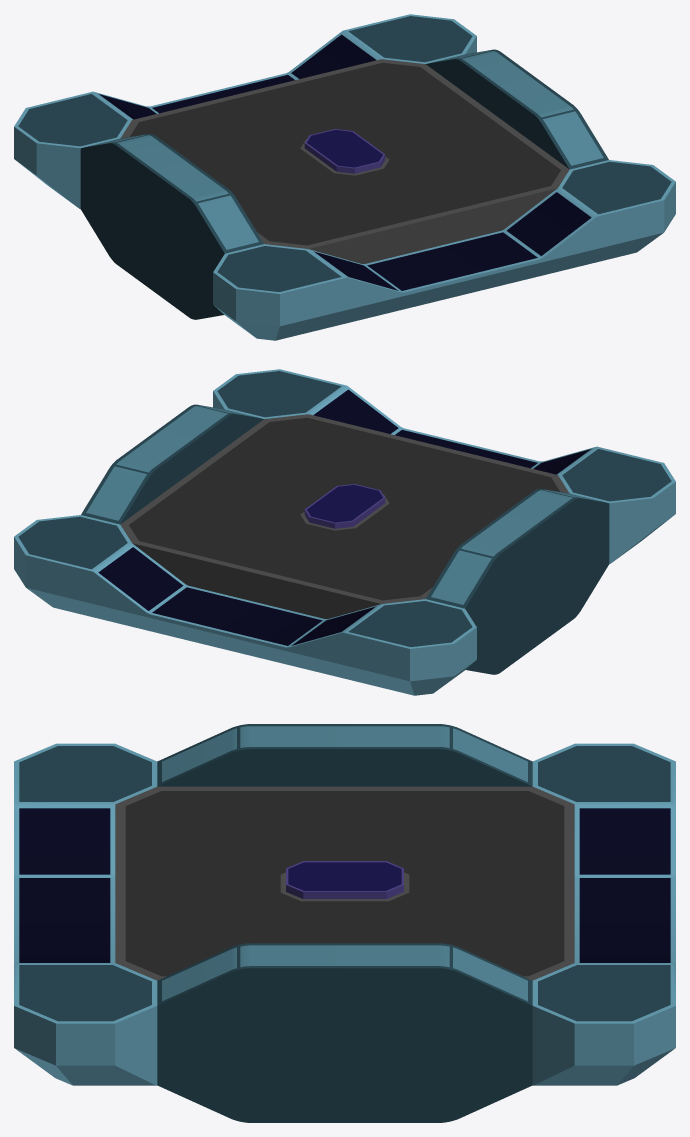
Rendered from arena.gltf.
3 views of the same model, one above another, from view 1: azimuth 30°, elevation 25°; view 2: azimuth 150°, elevation 25°; view 3: azimuth 270°, elevation 25° (orthographic). The views are drawn at different scales.
Parts seen in each view (by area): view 1: arena.floor.main, arena.floor.corners, arena.sides.high; view 2: arena.floor.main, arena.floor.corners, arena.sides.high; view 3: arena.sides.high, arena.floor.corners, arena.floor.main.
Part boxes in pixels (x1,y1,x2,y2): arena.floor.main: (120,59,569,263); arena.floor.corners: (14,14,675,340); arena.sides.high: (80,49,608,319); arena.floor.main: (120,414,569,618); arena.floor.corners: (14,369,675,695); arena.sides.high: (81,404,609,674); arena.sides.high: (157,724,532,1122); arena.floor.corners: (14,743,675,1085); arena.floor.main: (115,786,574,980).
Bounding box in the file's own units: 64 × 16.5 × 64.
Materials: 1 (1 with a texture image).
